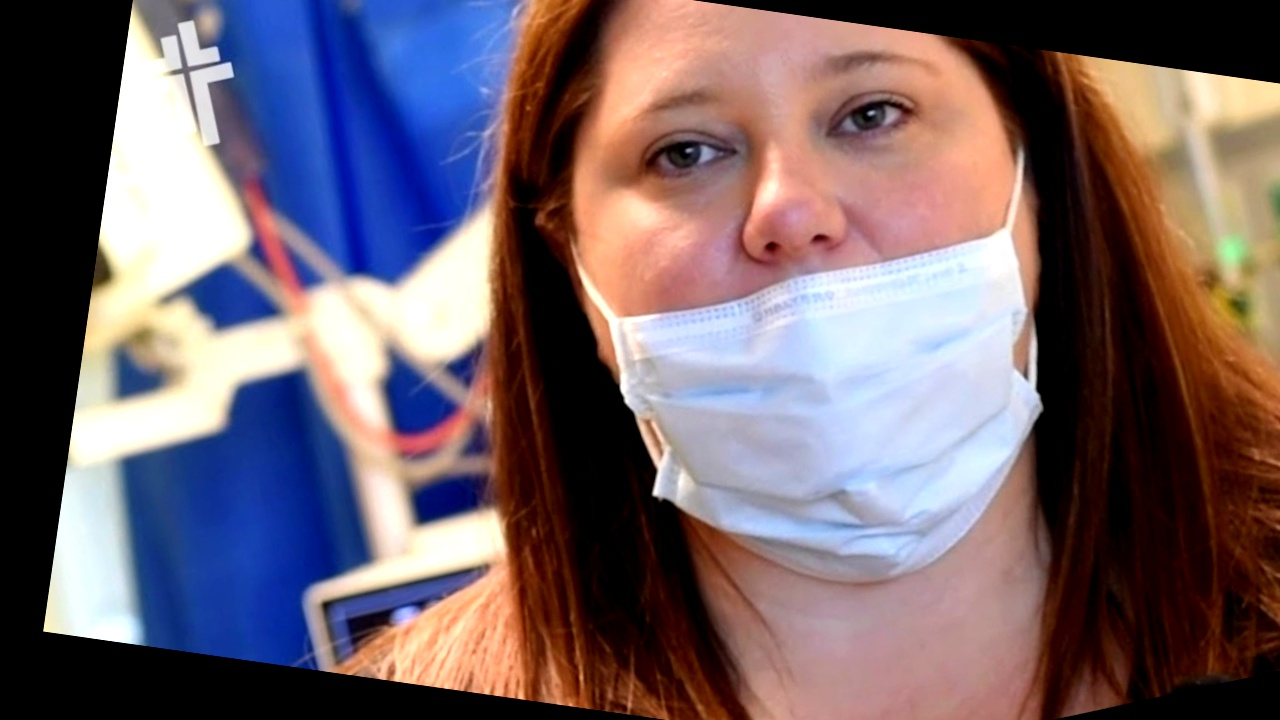mask_weared_incorrect: (589, 1, 1054, 584)
